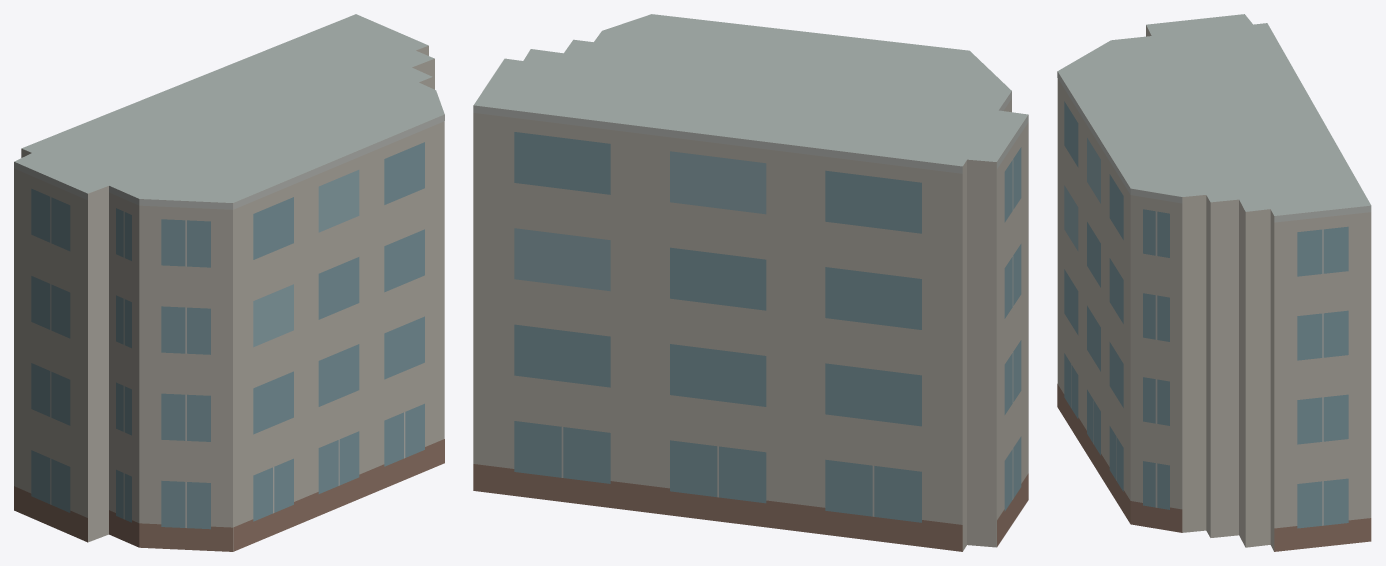
File: survey-upis-32682960.glb
3 views of the same model, side by side, from view 1: azimuth 30°, elevation 25°; view 2: azimuth 150°, elevation 25°; view 3: azimuth 270°, elevation 25° (orthographic). The views are drawn at different scales.
Parts seen in each view (by area): view 1: survey-upis-32682960.tmp; view 2: survey-upis-32682960.tmp; view 3: survey-upis-32682960.tmp.
Part boxes in pixels (x1,y1,x2,y2): survey-upis-32682960.tmp: [14, 14, 444, 551]; survey-upis-32682960.tmp: [473, 14, 1028, 551]; survey-upis-32682960.tmp: [1057, 14, 1371, 551].
Size of the model in its own units: 16.29 by 12.61 by 10.7.
